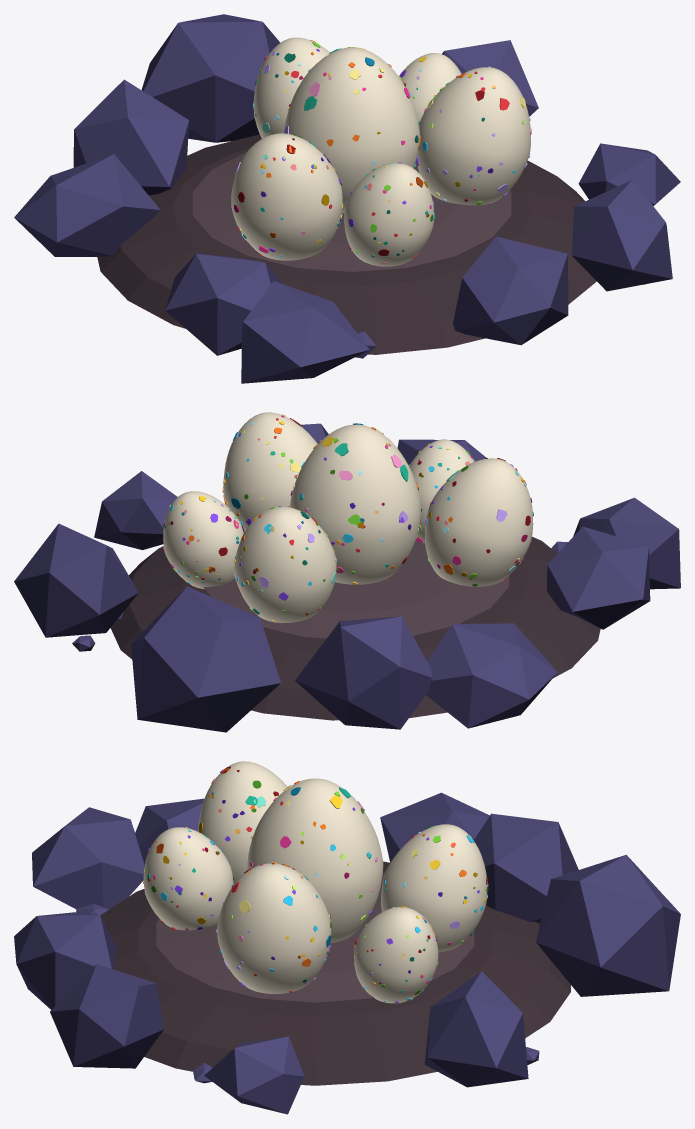
Rendered from Mine_EggCluster_Intact.fbx.
The picture shows the model from 3 angles, top to bottom: view 1: azimuth 30°, elevation 25°; view 2: azimuth 150°, elevation 25°; view 3: azimuth 270°, elevation 25°; orthographic projection. The views are drawn at different scales.
Parts seen in each view (by area): view 1: Mine_EggCluster_Intact_Body, Mine_EggCluster_Intact_Eggs; view 2: Mine_EggCluster_Intact_Body, Mine_EggCluster_Intact_Eggs; view 3: Mine_EggCluster_Intact_Body, Mine_EggCluster_Intact_Eggs.
Part boxes in pixels (<box>): Mine_EggCluster_Intact_Body: <box>14,14,680,383</box>; Mine_EggCluster_Intact_Eggs: <box>231,37,531,266</box>; Mine_EggCluster_Intact_Body: <box>14,423,680,732</box>; Mine_EggCluster_Intact_Eggs: <box>163,412,533,622</box>; Mine_EggCluster_Intact_Body: <box>14,792,680,1114</box>; Mine_EggCluster_Intact_Eggs: <box>143,761,488,1003</box>.
Bounding box in the file's own units: 1.76 × 0.6 × 1.86.
